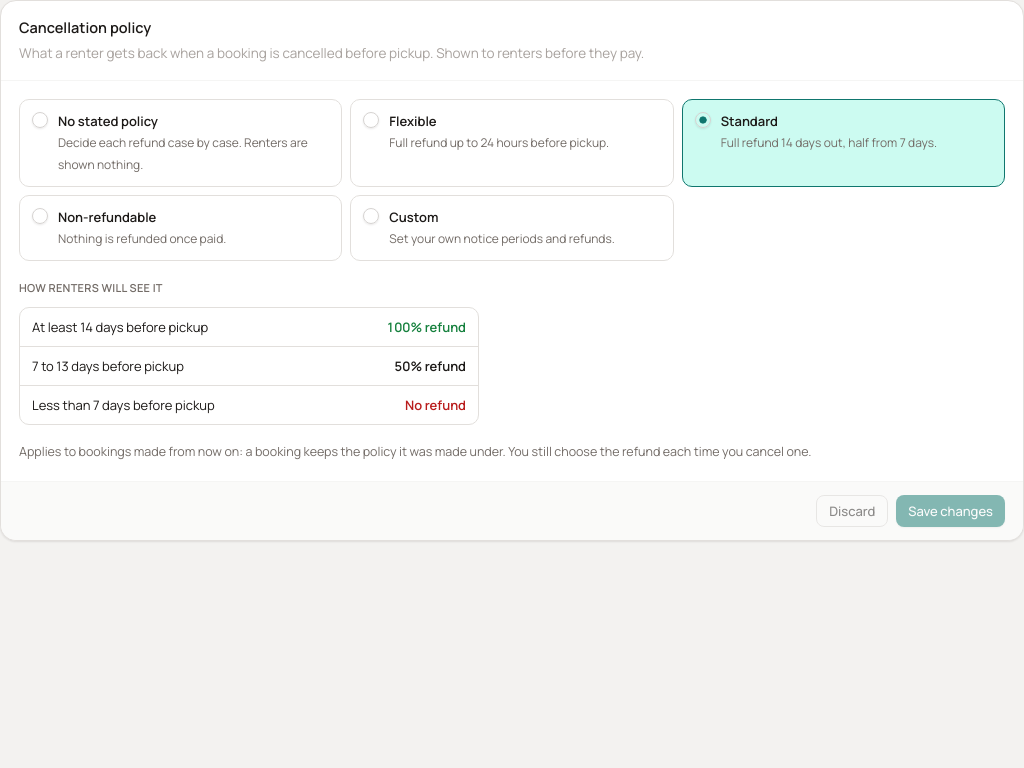
CancellationPolicyCard › does not send a schedule the API would refuse, and says which tier is wrong
This screenshot has width=1024, height=768.
Click the radio button named "Custom" next to "Custom" at (371, 216), box [363,208,379,224]
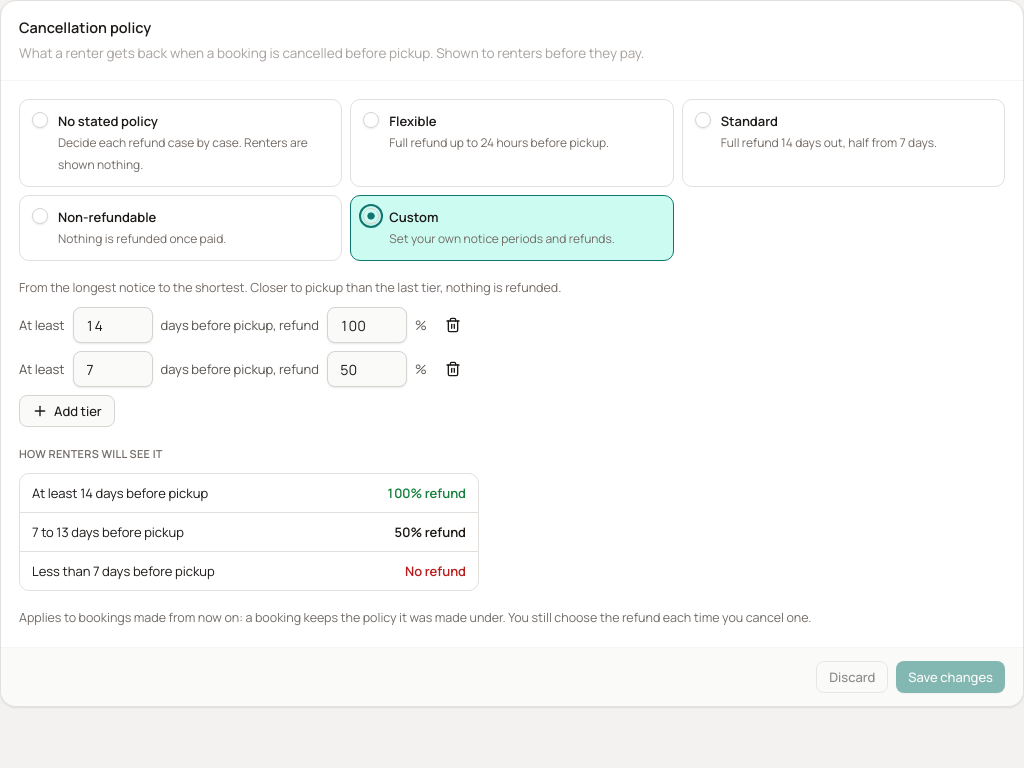
Replace the text in the number field named "Tier 2: days before pickup" with "20" at (112, 369), box [72,351,152,387]
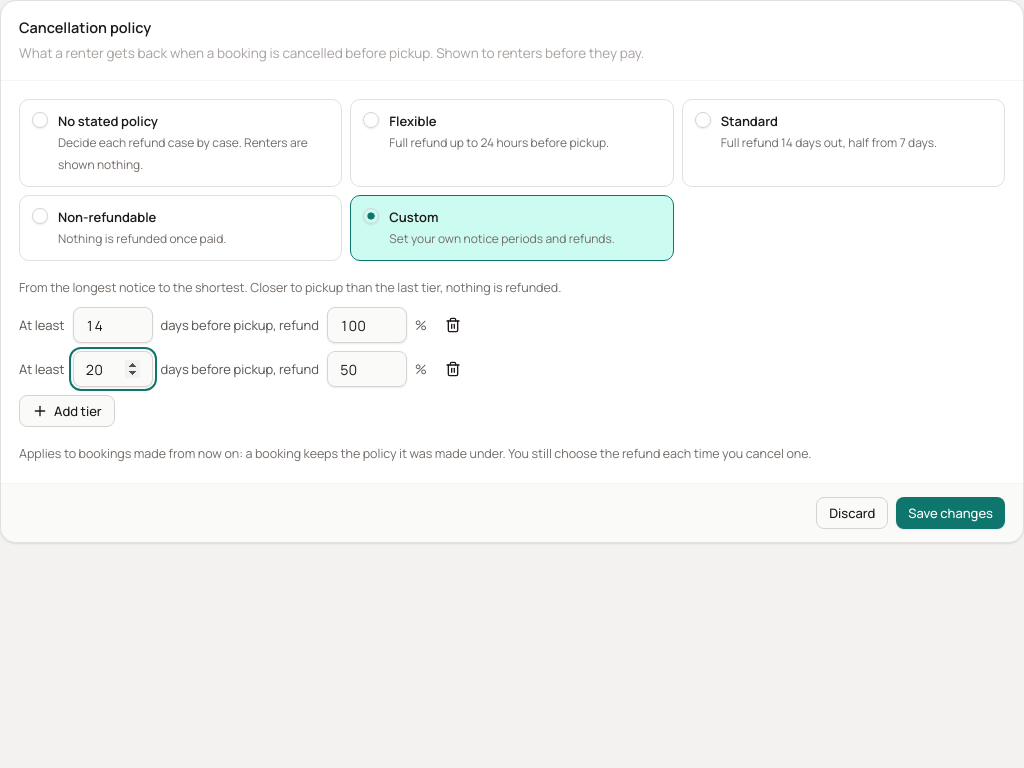
Click the button "Save changes" at (951, 513), box [896,497,1005,529]
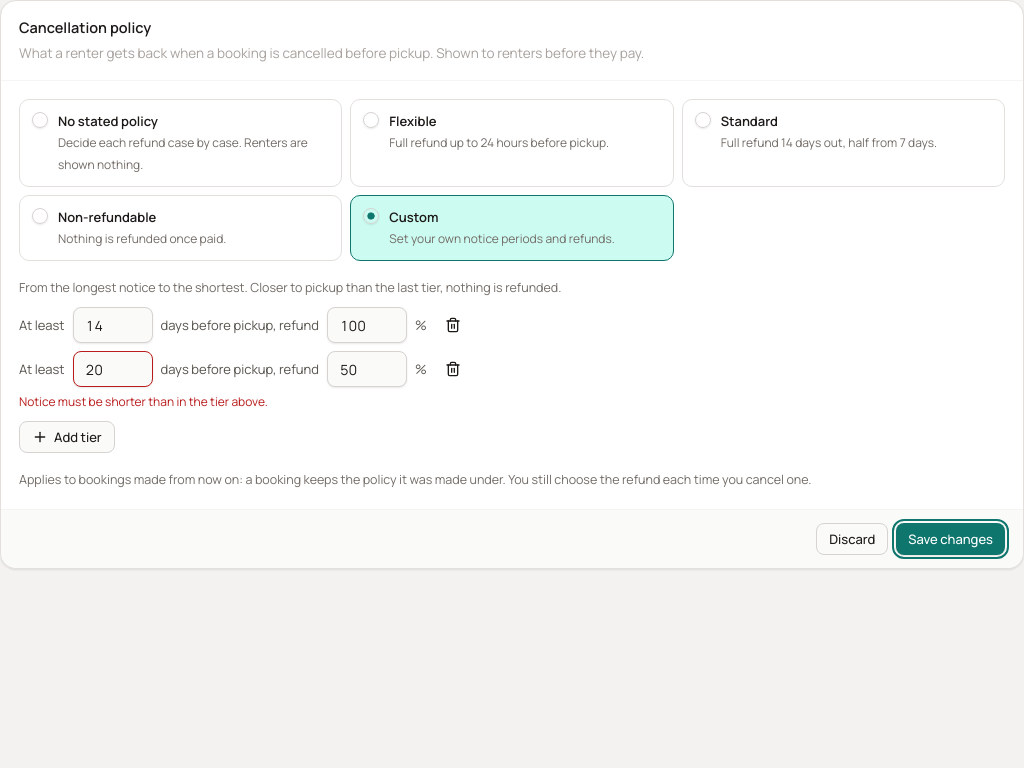
Now the message reads "Notice must be shorter than in the tier above.", box [19,393,268,410]
